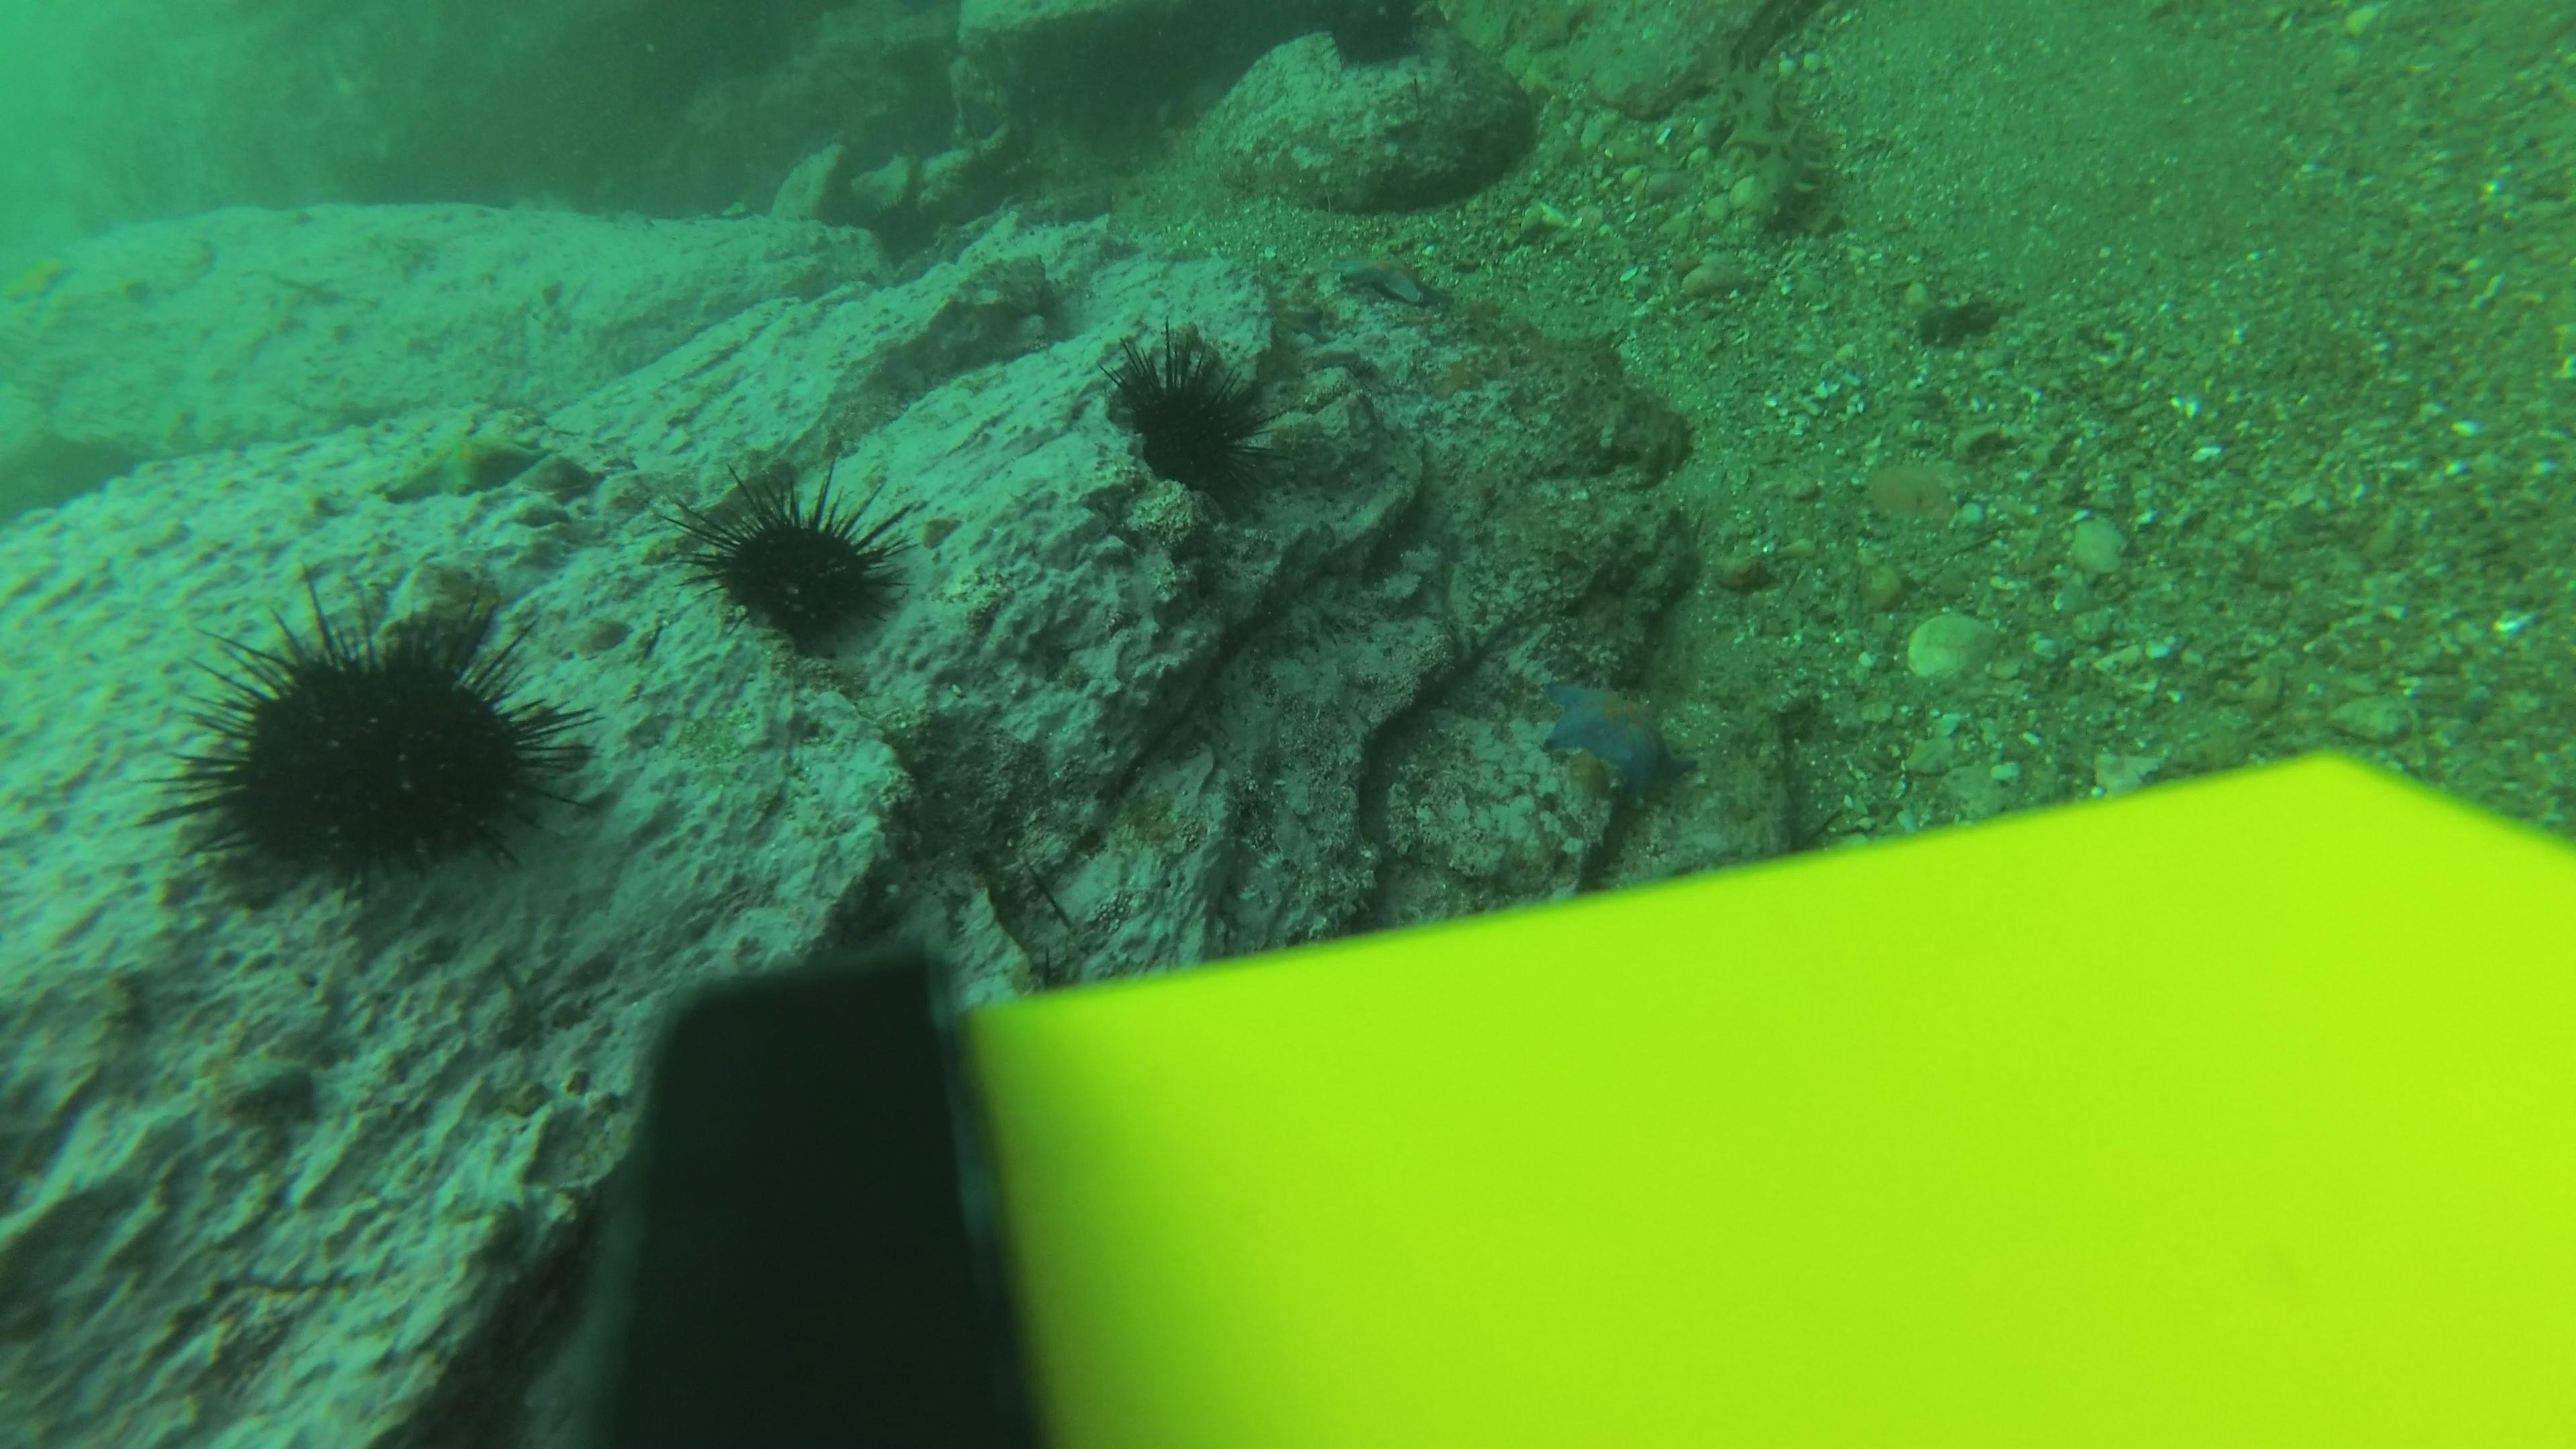echinus: (166, 586, 589, 892), (678, 462, 915, 655), (1097, 324, 1286, 511), (1313, 0, 1440, 74)
holothurian: (1713, 51, 1847, 246)
starfish: (1532, 669, 1697, 801), (377, 426, 557, 508), (1329, 249, 1440, 308), (2, 241, 76, 308)
